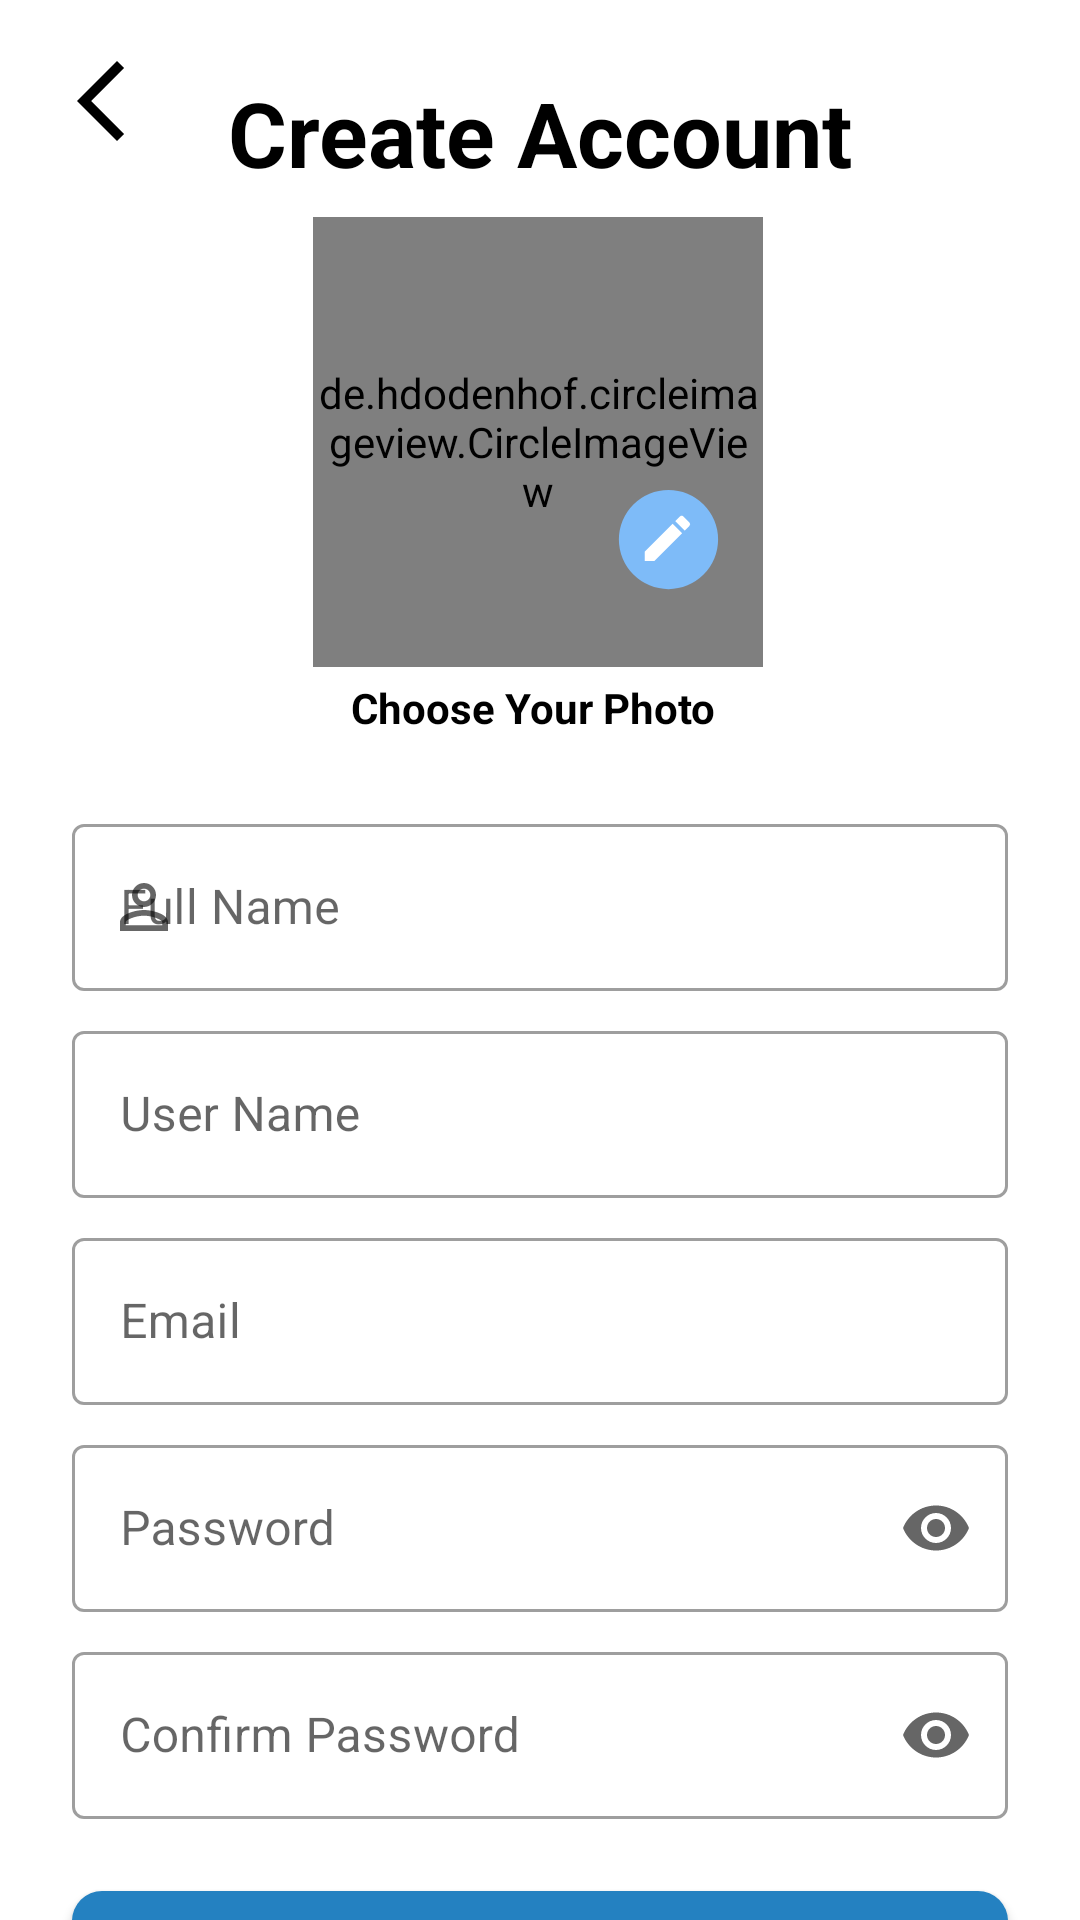

Named icons in this screenshot (1080 × 1920) and their bounding boxes, (x1, y1, x2, y2):
arrow back: (77, 61, 124, 141)
edit: (619, 490, 718, 590)
